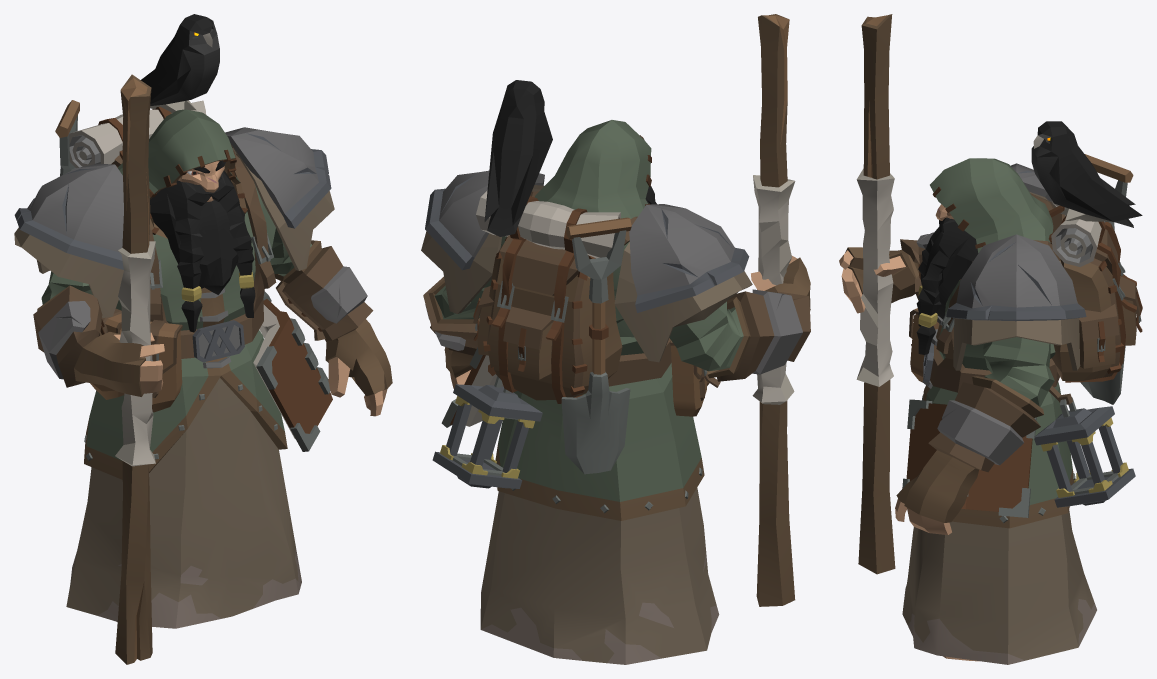
The model's file is low_poly_dwarf (1).glb.
3 renders of one model, left to right at view 1: azimuth 30°, elevation 25°; view 2: azimuth 150°, elevation 25°; view 3: azimuth 270°, elevation 25°, orthographic. The views are drawn at different scales.
Parts seen in each view (by area): view 1: group4; view 2: group4; view 3: group4.
Part boxes in pixels (x1=…): group4: x1=14, y1=14, x2=392, y2=664; group4: x1=421, y1=14, x2=810, y2=664; group4: x1=839, y1=14, x2=1142, y2=664.
Bounding box in the file's own units: 264 × 425 × 211.
Materials: 1 (1 with a texture image).
